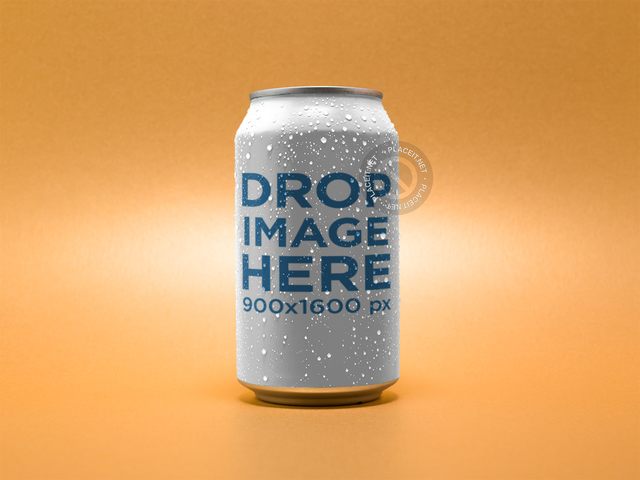beer can: (229, 83, 406, 410)
